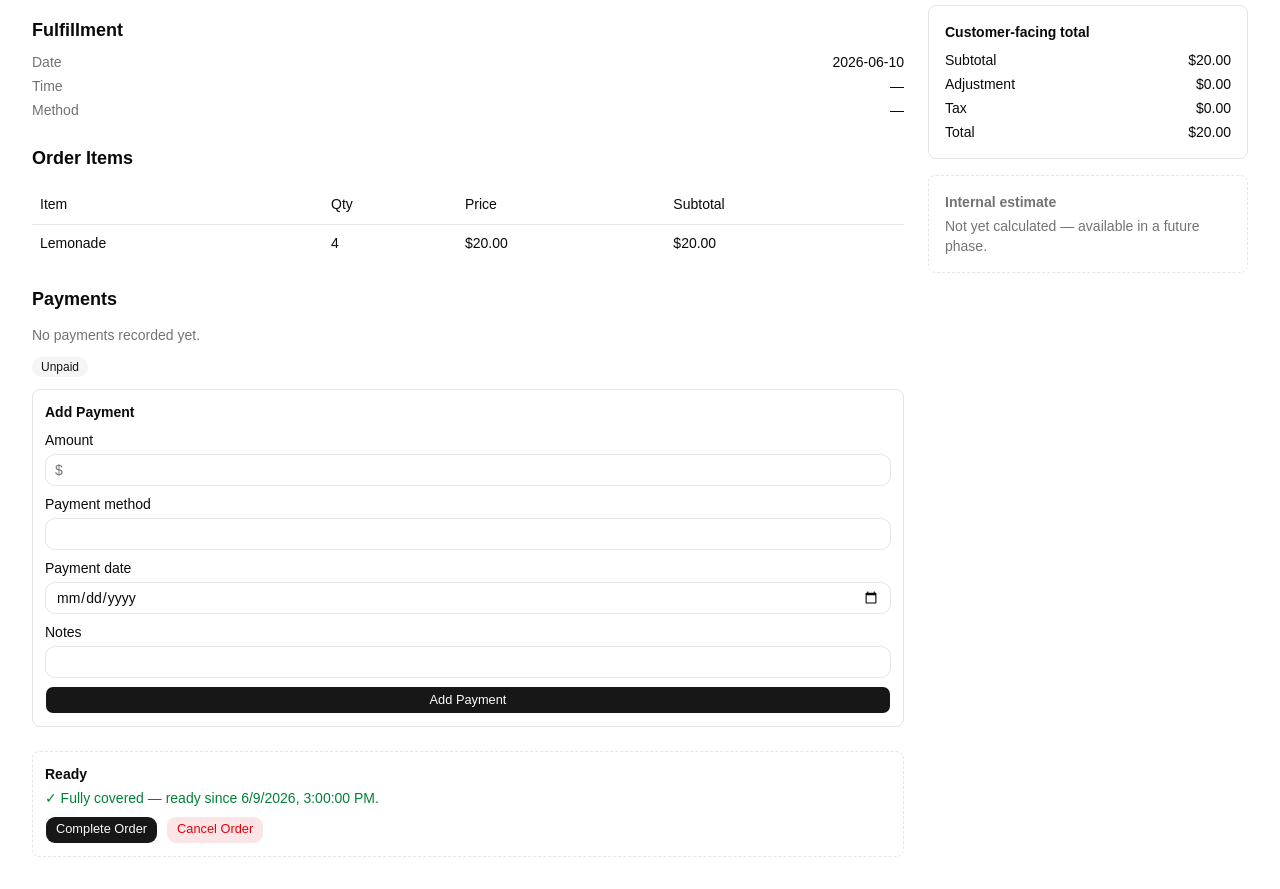
Test case: Order Details — Complete Order › refreshes the dashboard, shopping list and inventory views after a successful completion
(page scrolled)
Click the button "Complete Order" at x=102, y=830, box [45,816,158,844]
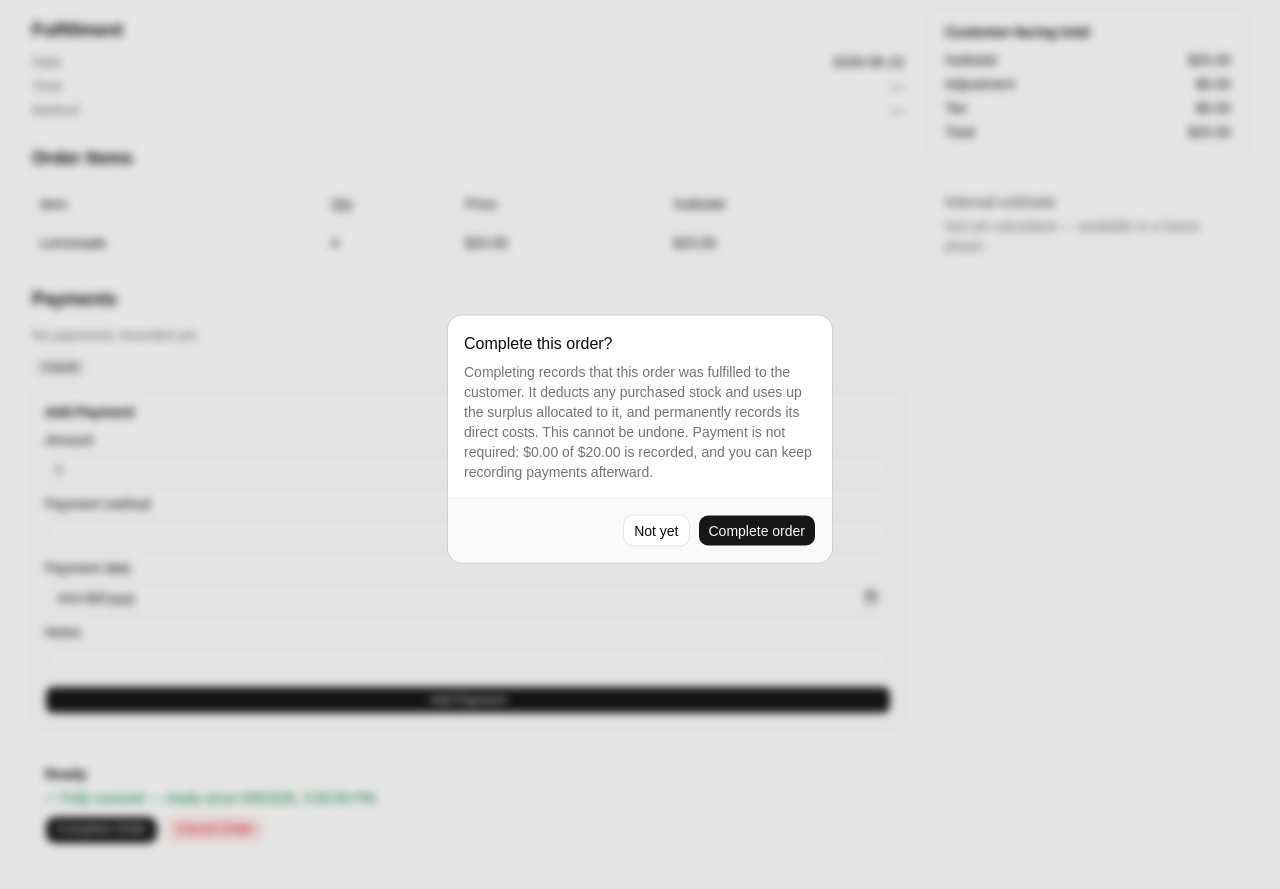
Click the button "Complete order" at x=757, y=530, box [698,514,816,546]
(page scrolled)
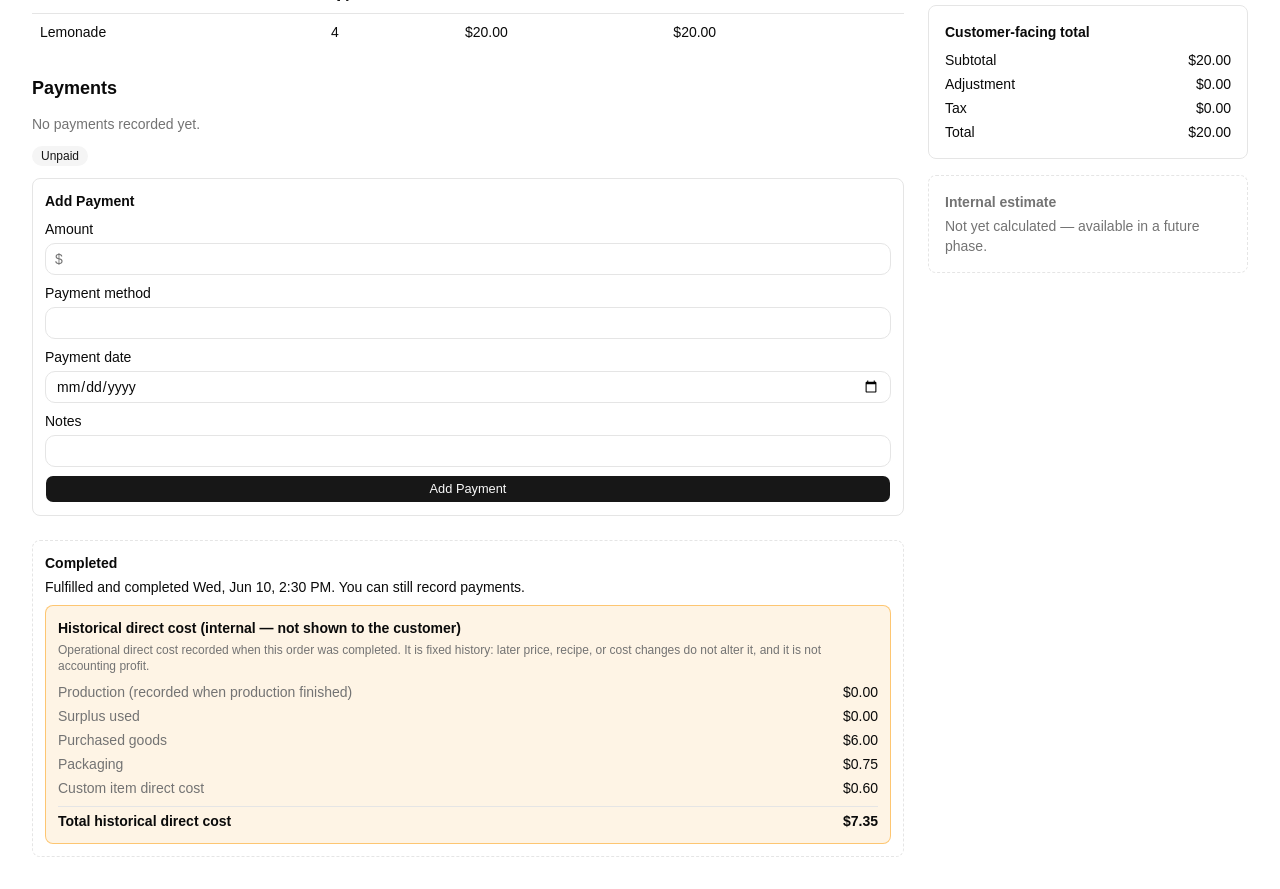
Expected: the element with test id "completed-panel" is shown, [32,540,904,856]
